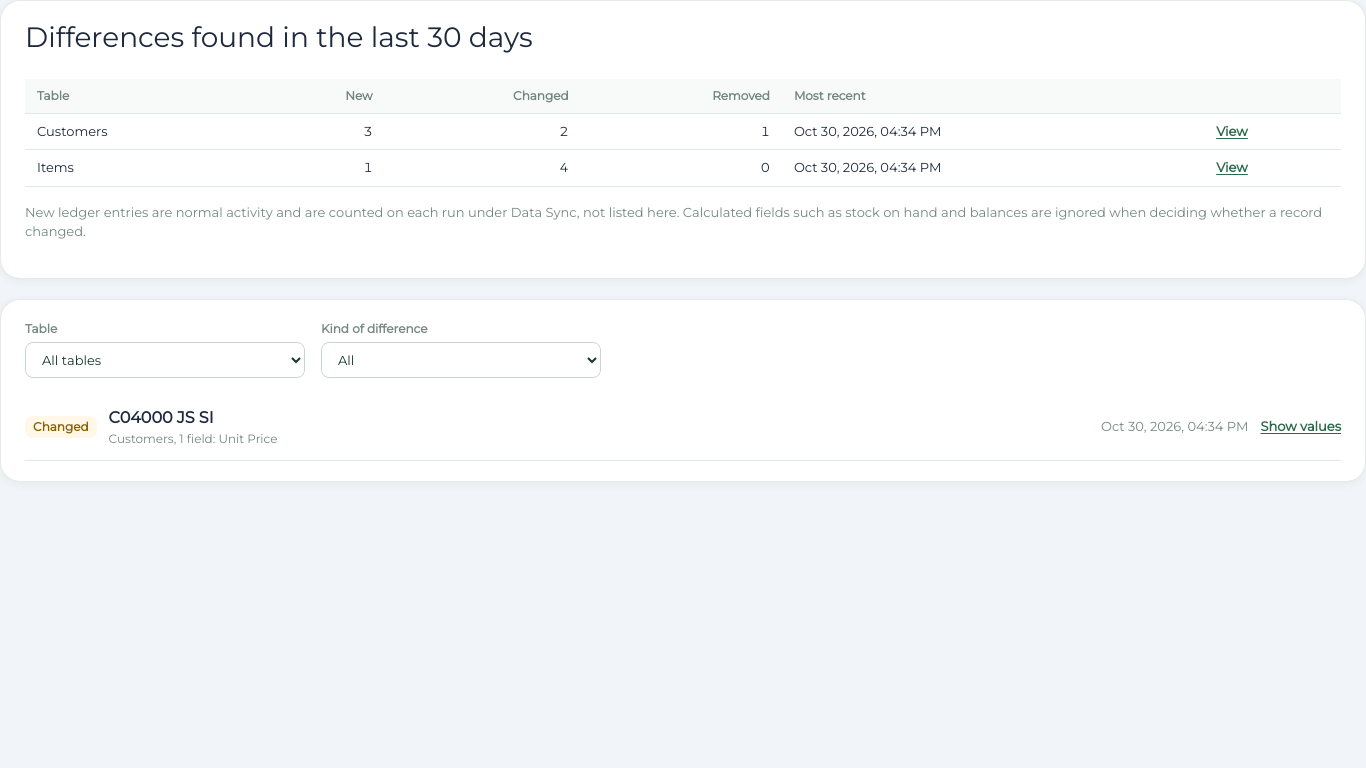
Test: View opens a pop-up with that table's changes, filterable, and Close or Escape shuts it
expect the text "C04000 JS SI" is shown: met, box [108,408,214,427]
Click the button with aria-label "View changes in Items": (1232, 168) [1216,158,1248,178]
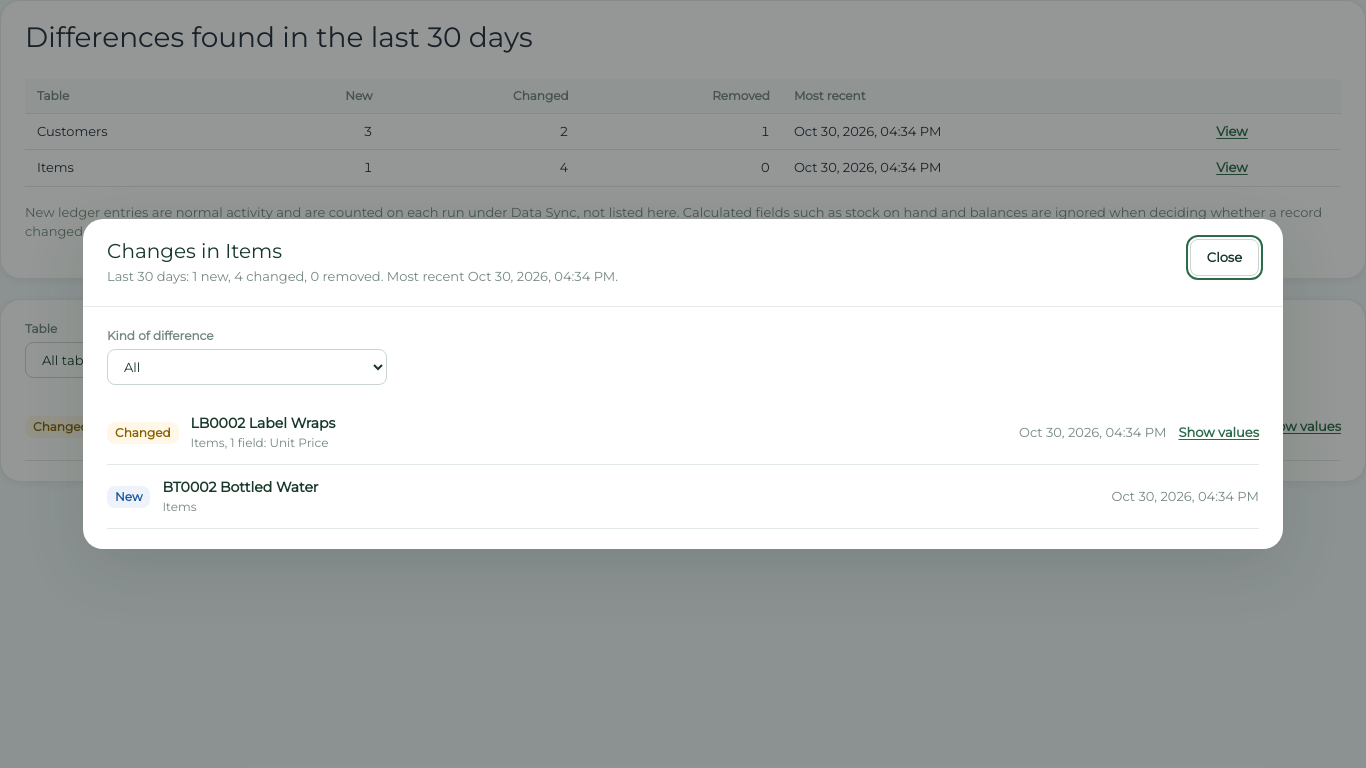
expect the dialog "Changes in Items" shows "1 new, 4 changed, 0 removed": met, box [107,268,618,284]
expect the text "LB0002 Label Wraps" is shown: met, box [190,414,335,432]
expect the text "BT0002 Bottled Water" is shown: met, box [162,478,318,496]
Click the button "Show values": (1219, 433) [1178,423,1259,442]
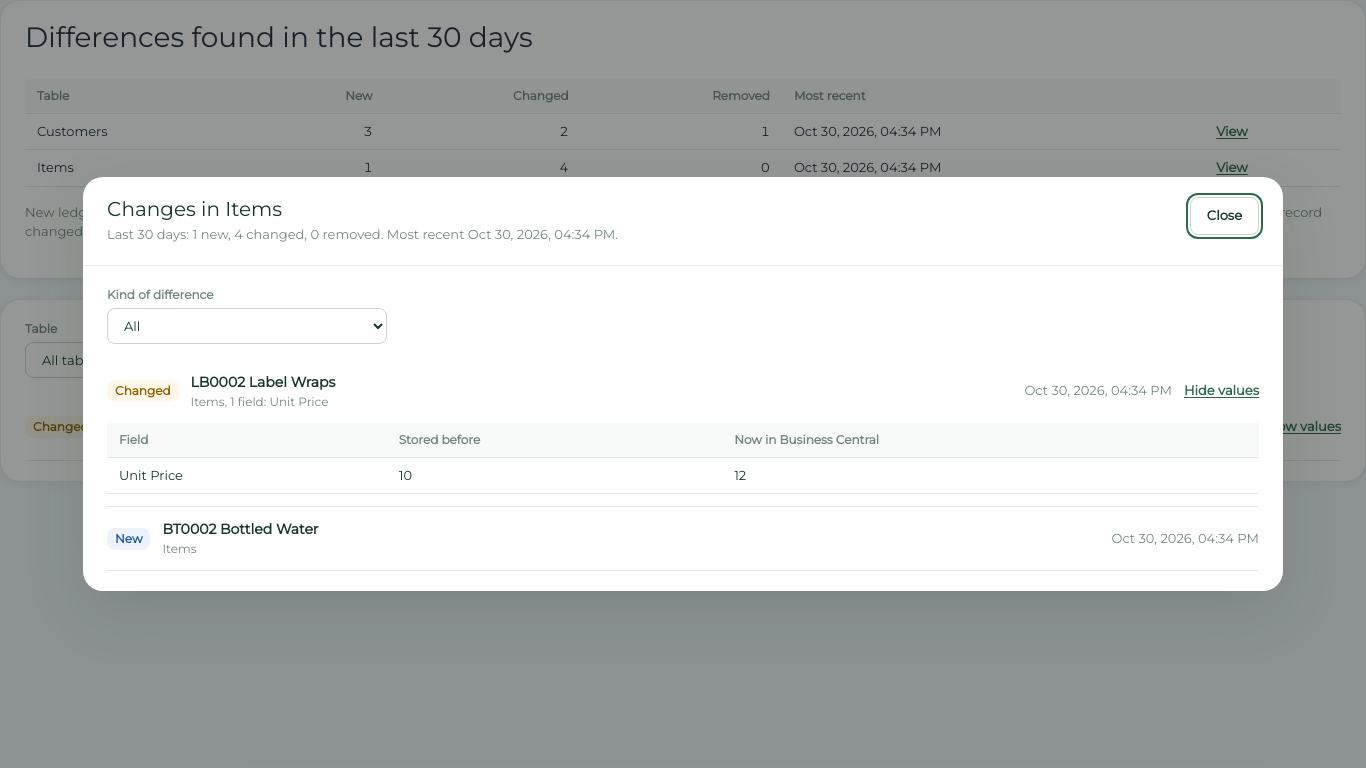
expect the text "Unit Price" is shown: met, box [107,457,387,494]
Select "New" in the dropdown labelled "Kind of difference": (247, 326) [107,308,387,344]
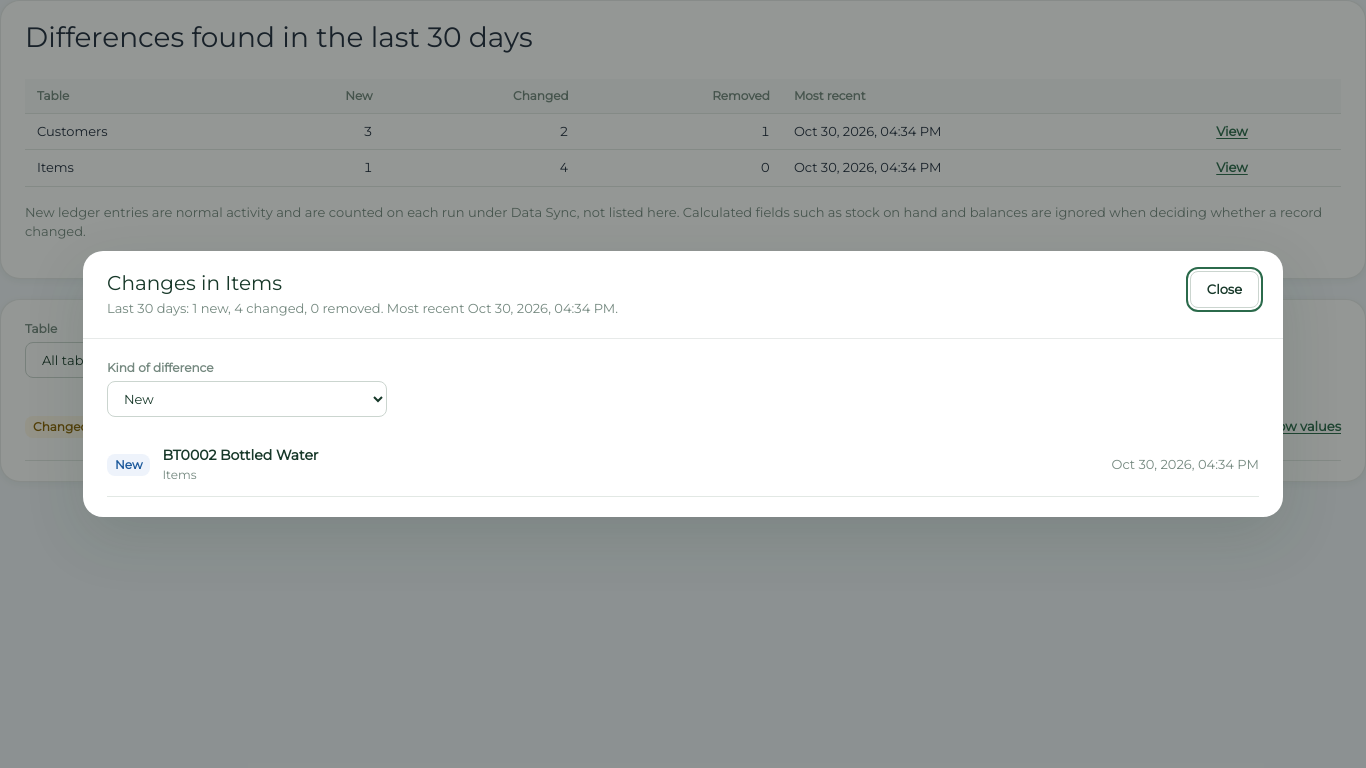
expect the text "BT0002 Bottled Water" is shown: met, box [162,446,318,464]
expect the text "LB0002 Label Wraps" is gone: met
expect the text "C04000 JS SI" is shown once: met, box [108,408,214,427]
Press Escape
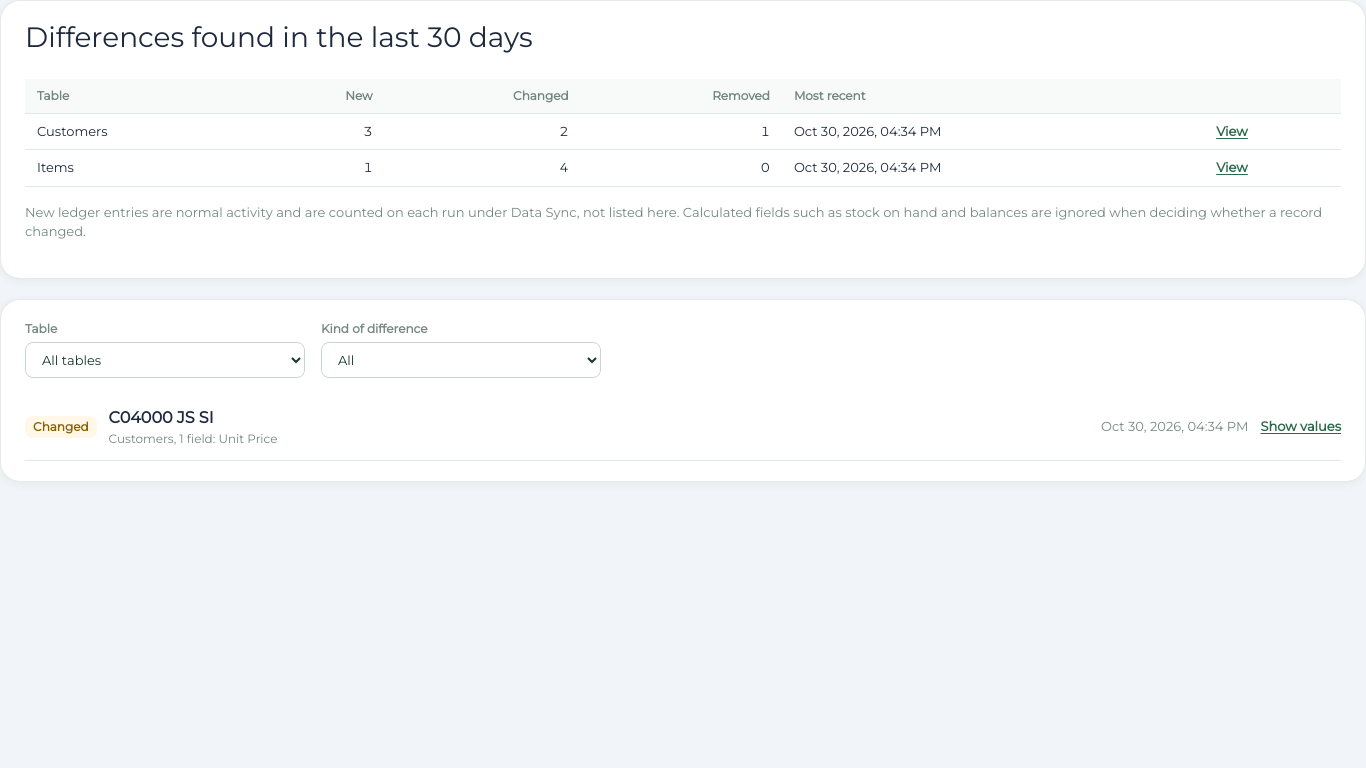
expect the dialog is gone: met
Click the button with aria-label "View changes in Customers": (1232, 131) [1216,122,1248,141]
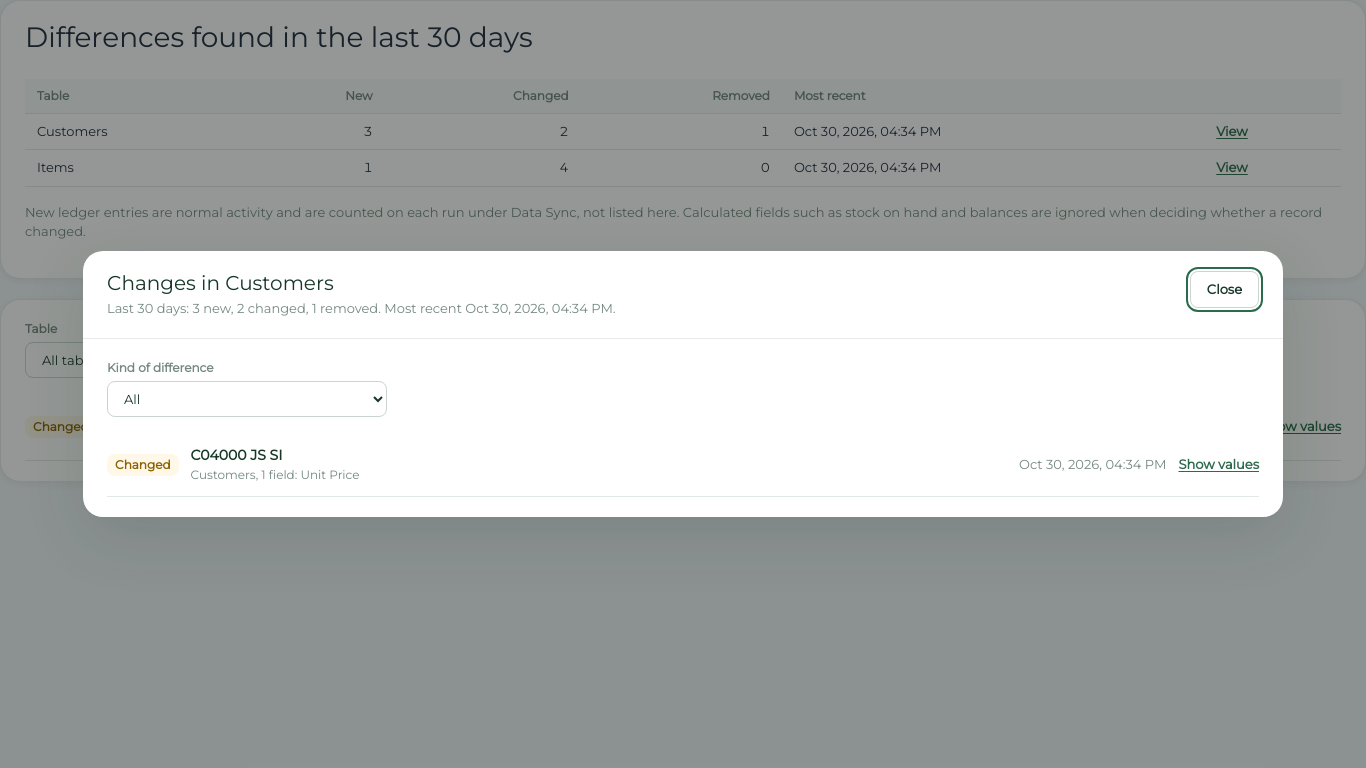
Click the button "Close": (1224, 290) [1190,271,1259,308]
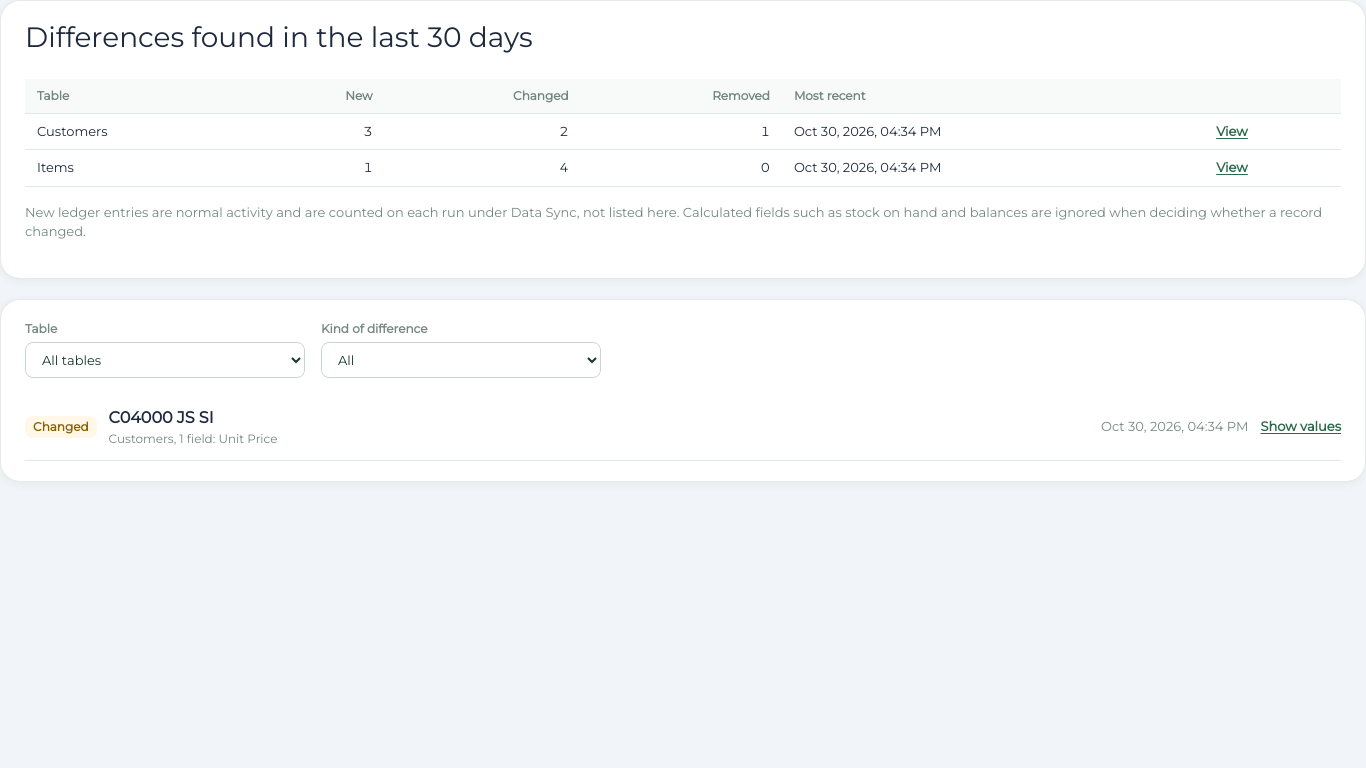
expect the dialog is gone: met
